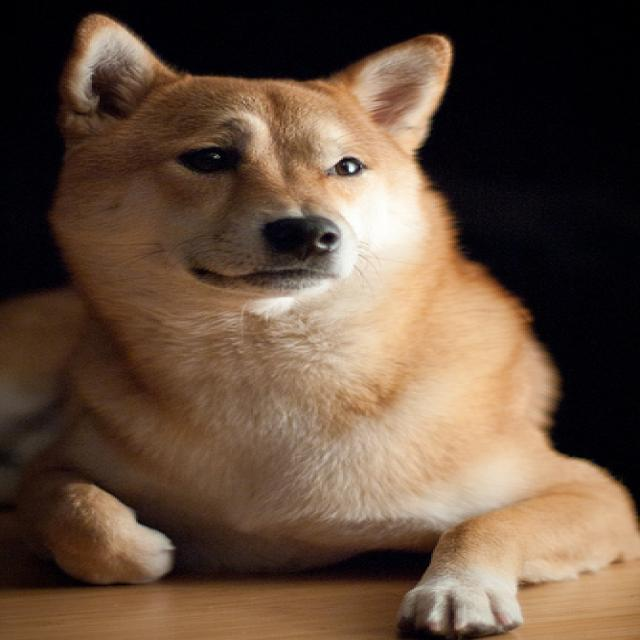dog-shiba_inu: (2, 1, 636, 637)
